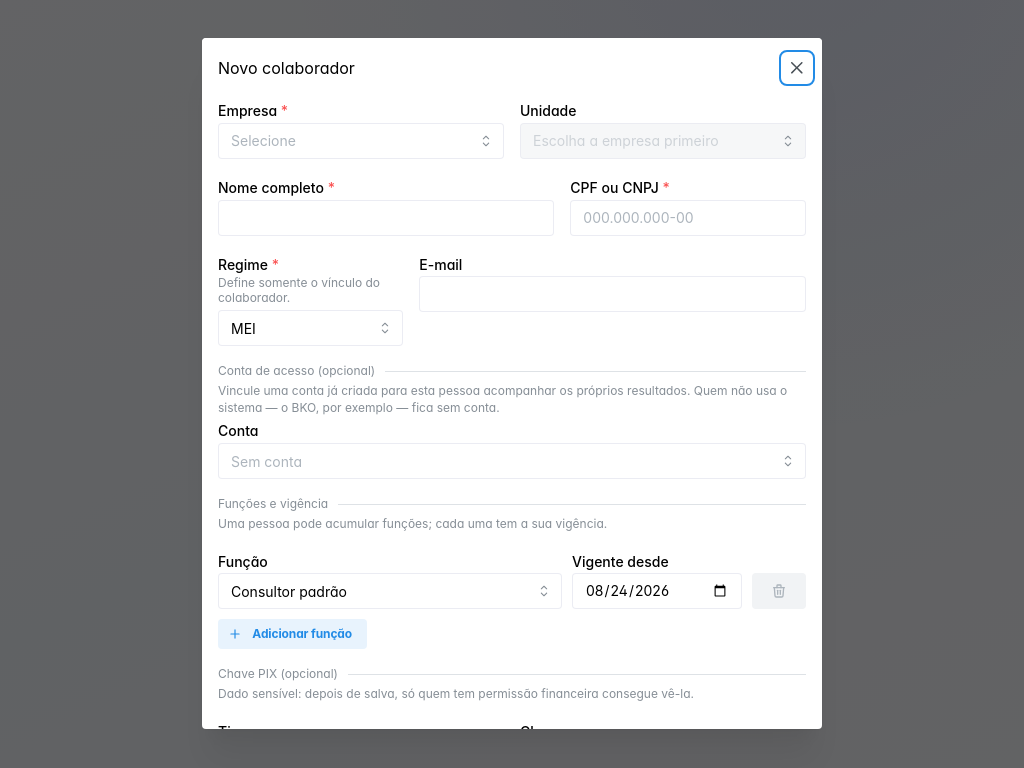
Test: CollaboratorFormModal › oferece as contas ainda sem colaborador para vínculo
Click the field labelled "Conta" at (512, 462), box [218,444,806,480]
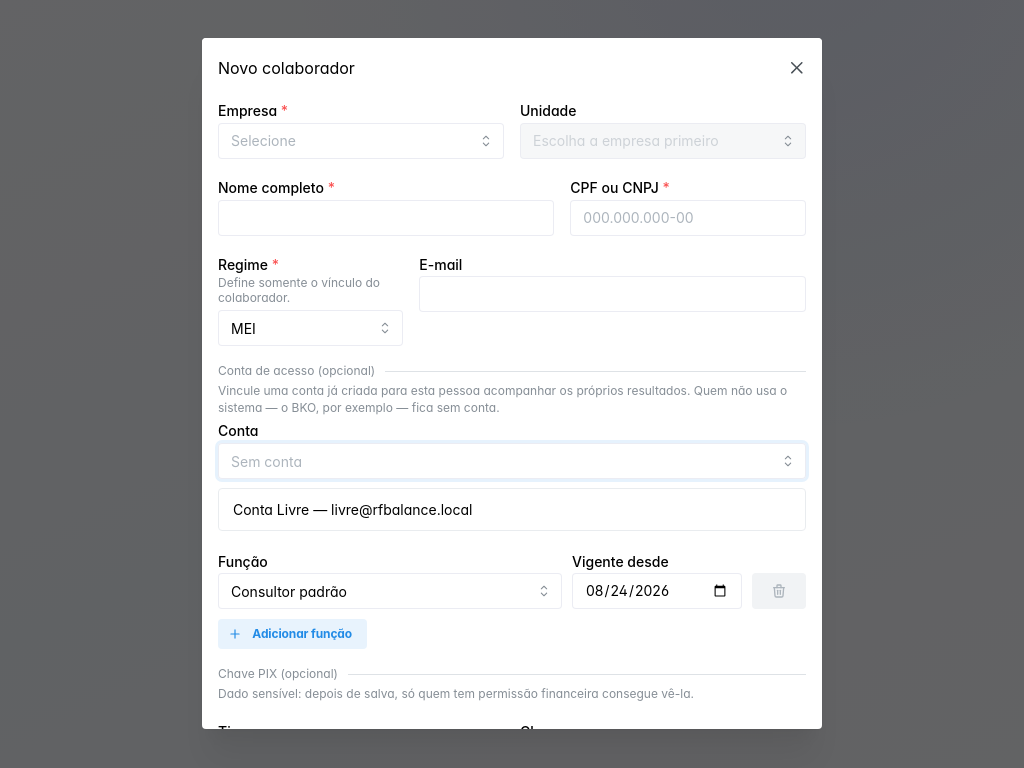
Check: the text "Conta Livre — livre@rfbalance.local" is shown, box [233,499,472,520]
